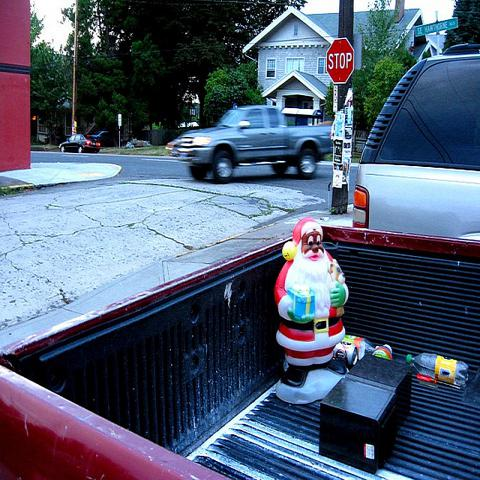car: (350, 44, 480, 240), (58, 134, 100, 153)
truck: (2, 225, 480, 474), (166, 108, 334, 182)
